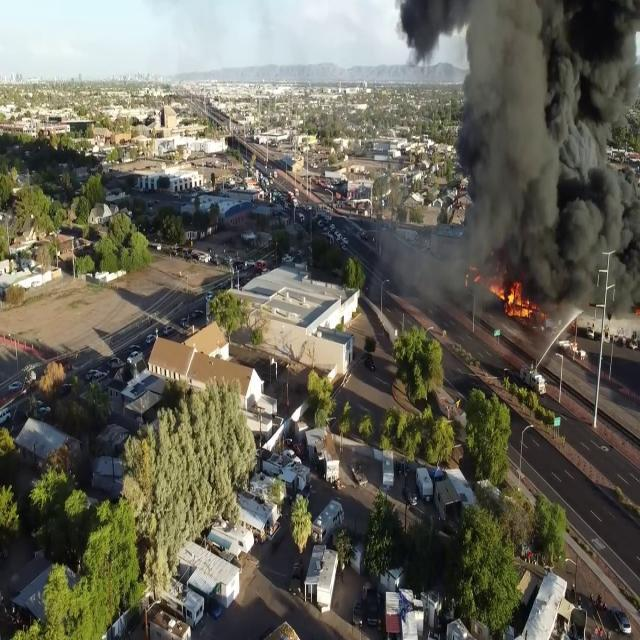Fire: (485, 274, 537, 322)
Smoke: (415, 0, 640, 326), (375, 196, 472, 332)
